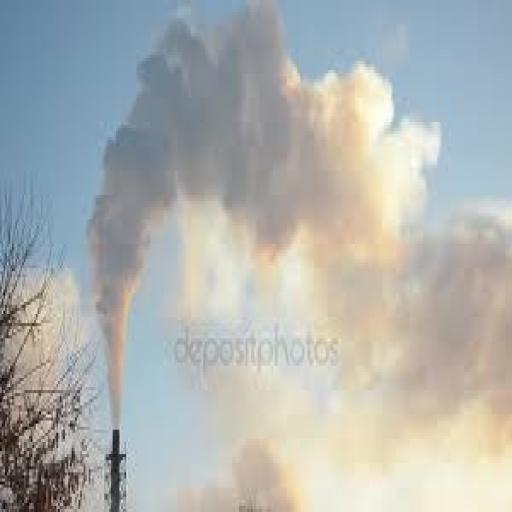smoke: (88, 9, 450, 424)
